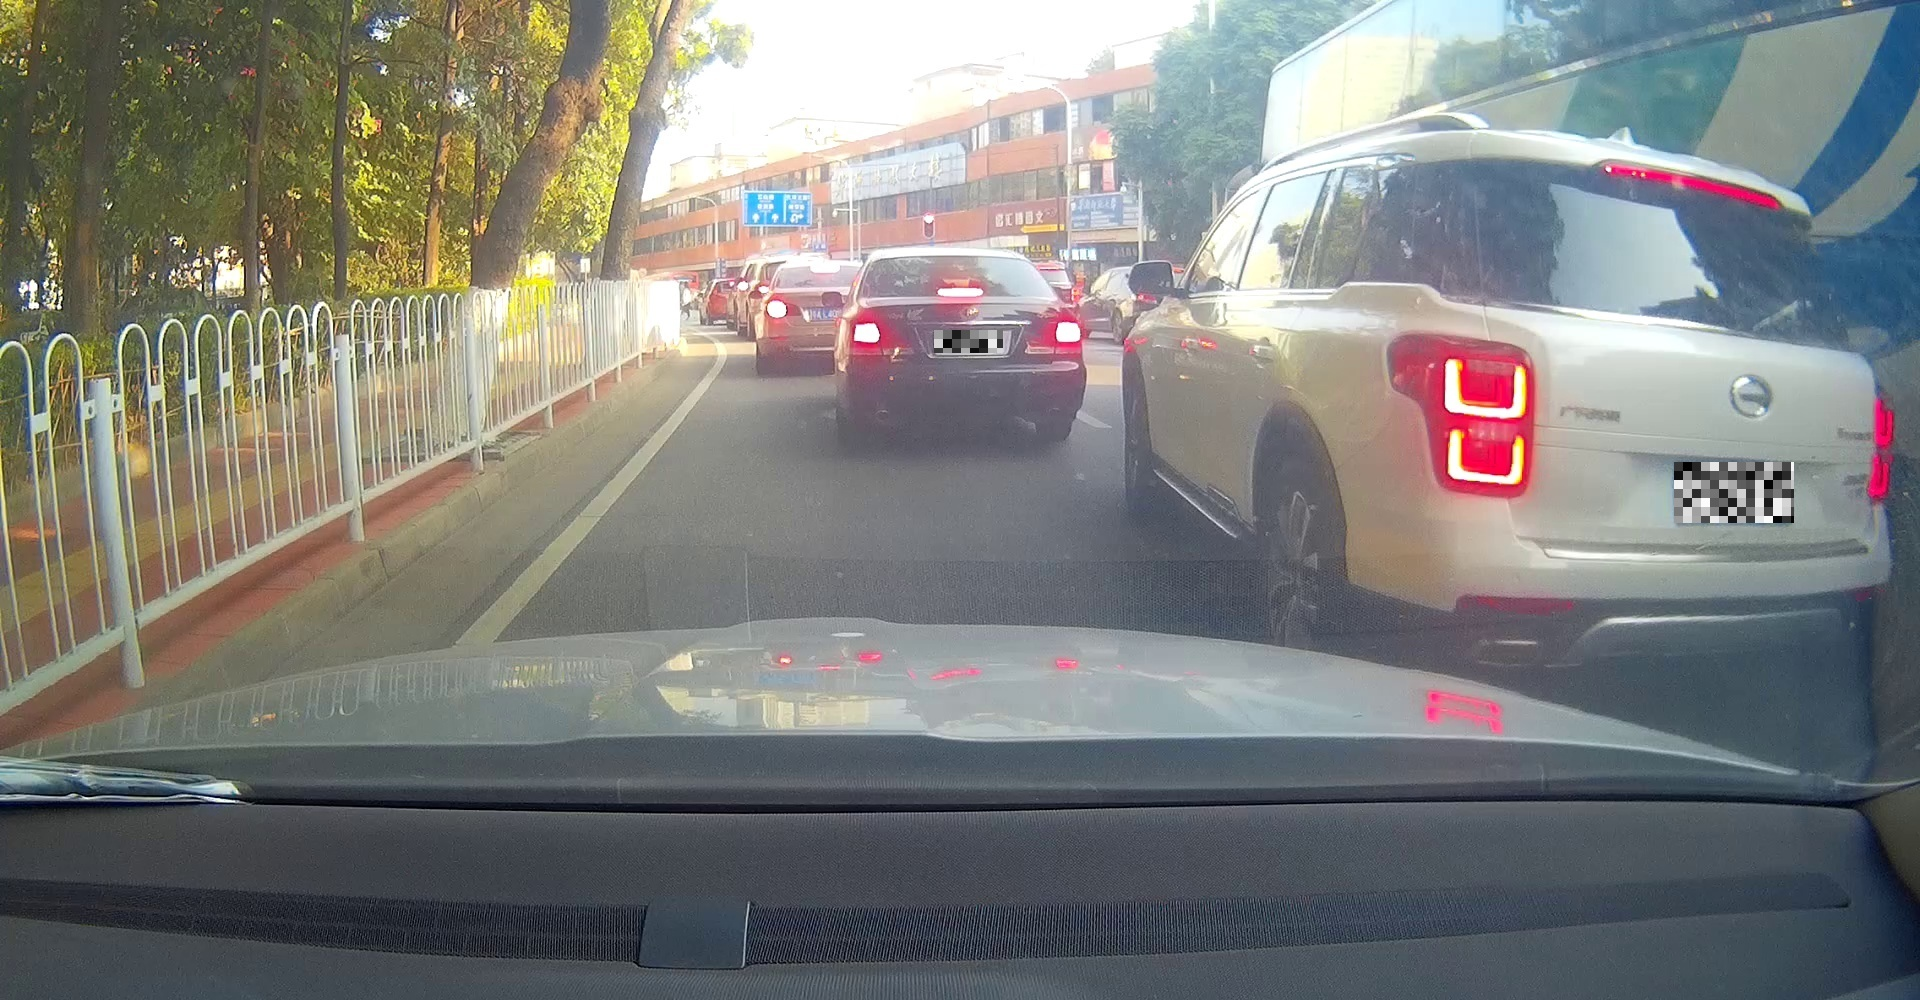L_light: (1385, 331, 1537, 496), (851, 321, 891, 349)
R_light: (1865, 387, 1891, 503), (1039, 321, 1079, 348)
T_light: (1592, 159, 1783, 209), (936, 287, 984, 298)
day-brake: (1383, 128, 1892, 688), (852, 246, 1081, 442)
plate_1: (935, 330, 1003, 353)
plate_2: (1674, 462, 1794, 523)
